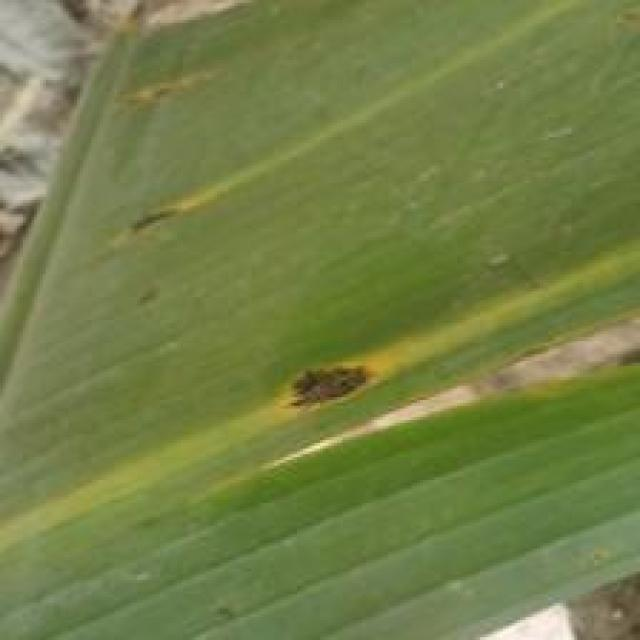Downey_mildrew: (3, 418, 308, 594), (264, 334, 516, 457), (449, 275, 640, 412), (104, 122, 232, 266)
